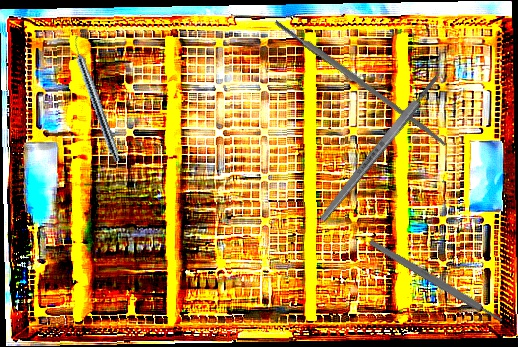Handpiece: (67, 34, 125, 164)
Scalpel Handle: (273, 17, 449, 148), (317, 73, 442, 224), (367, 237, 505, 326)
